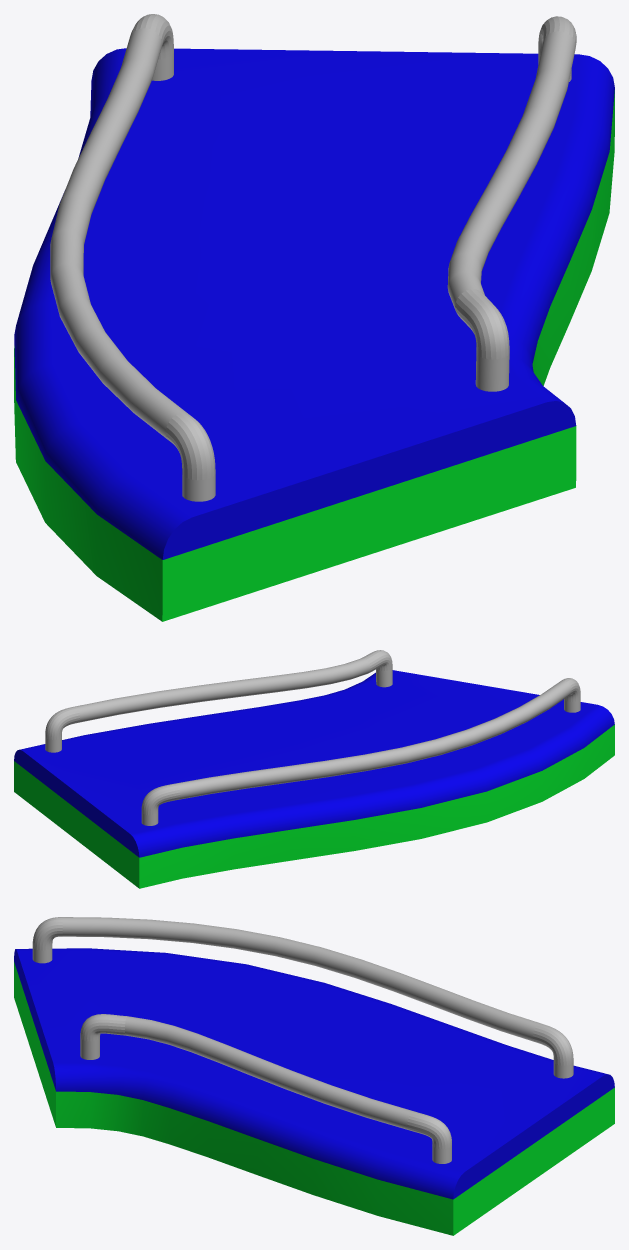
The picture shows the model from 3 angles, top to bottom: view 1: azimuth 30°, elevation 25°; view 2: azimuth 150°, elevation 25°; view 3: azimuth 270°, elevation 25°; orthographic projection. The views are drawn at different scales.
Visible parts, largest first — view 1: polySurface9, pCylinder35, pCylinder31; view 2: polySurface9, pCylinder35, pCylinder31; view 3: polySurface9, pCylinder35, pCylinder31.
Boxes of the visible parts, left/top/right/bottom form: polySurface9: left=14, top=48, right=614, bottom=621; pCylinder35: left=50, top=14, right=215, bottom=501; pCylinder31: left=447, top=16, right=576, bottom=391; polySurface9: left=14, top=670, right=614, bottom=888; pCylinder35: left=141, top=678, right=580, bottom=825; pCylinder31: left=45, top=650, right=392, bottom=752; polySurface9: left=14, top=948, right=614, bottom=1235; pCylinder35: left=32, top=917, right=573, bottom=1078; pCylinder31: left=80, top=1014, right=451, bottom=1163.
Bounding box in the file's own units: 912 × 175 × 972.
